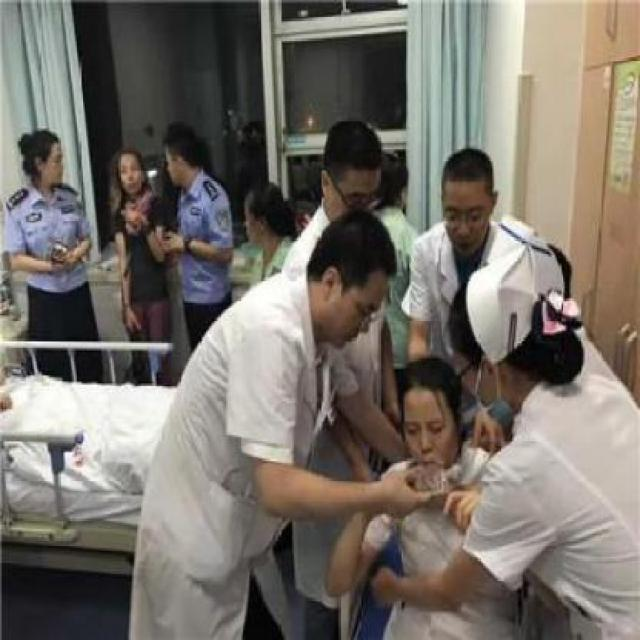fall: (340, 354, 502, 635)
